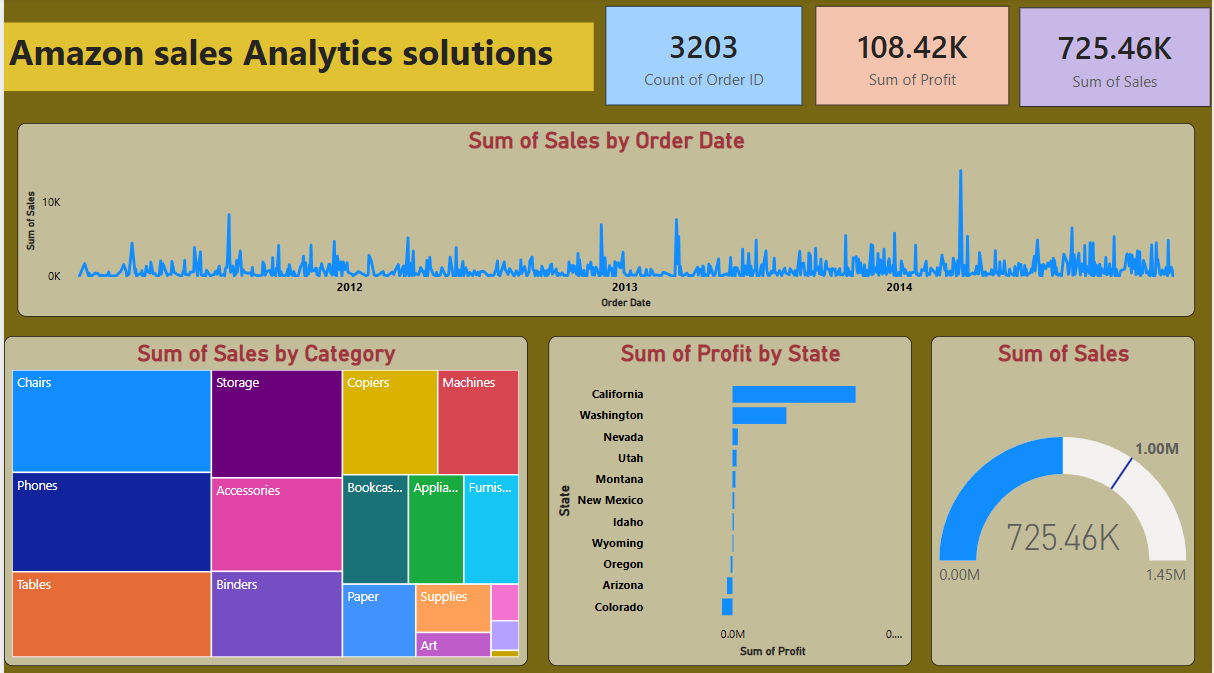

What the dashboard file says about the page in this screenshot:
{"tool":"powerbi","page":{"name":"Page 1","canvas":[1280,720],"ordinal":0},"visuals":[{"type":"card","fields":{"Values":["Sum(Walmart.Sales)"]},"box":[1076.8,11.3,202.4,105.2],"z":0},{"type":"card","fields":{"Values":["Sum(Walmart.Profit)"]},"box":[859.8,9.7,205.6,105.2],"z":1000},{"type":"card","fields":{"Values":["CountNonNull(Walmart.Order ID)"]},"box":[638,9.7,208.9,105.2],"z":2000},{"type":"lineChart","fields":{"Category":["Walmart.Order Date"],"Y":["Sum(Walmart.Sales)"]},"box":[14.6,134.4,1248.4,205.6],"z":3000},{"type":"treemap","fields":{"Group":["Walmart.Category"],"Values":["Sum(Walmart.Sales)"]},"box":[0,359.5,555.4,349.8],"z":4000},{"type":"barChart","fields":{"Category":["Walmart.State"],"Y":["Sum(Walmart.Profit)"]},"box":[578.1,359.5,385.4,349.8],"z":5000},{"type":"gauge","fields":{"Y":["Sum(Walmart.Sales)"]},"box":[982.9,359.5,280.1,349.8],"z":6000},{"type":"textbox","box":[0,27.5,625,72.9],"z":7000}]}

Visuals, with their boxes in screenshot pixels (x1, y1, x2, y2), scaled from the page's 1280x720 canvas onto the 1214x673 screenshot:
card - Sum(Walmart.Sales): <bbox>1021, 11, 1213, 109</bbox>
card - Sum(Walmart.Profit): <bbox>815, 9, 1010, 107</bbox>
card - CountNonNull(Walmart.Order ID): <bbox>605, 9, 803, 107</bbox>
lineChart - Walmart.Order Date x Sum(Walmart.Sales): <bbox>14, 126, 1198, 318</bbox>
treemap - Walmart.Category x Sum(Walmart.Sales): <bbox>0, 336, 527, 663</bbox>
barChart - Walmart.State x Sum(Walmart.Profit): <bbox>548, 336, 914, 663</bbox>
gauge - Sum(Walmart.Sales): <bbox>932, 336, 1198, 663</bbox>
textbox: <bbox>0, 26, 593, 94</bbox>
